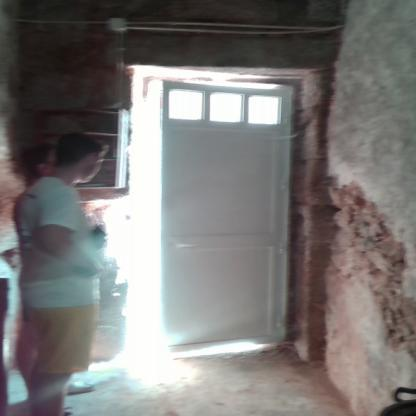door: (160, 83, 283, 337)
hinged: (282, 108, 288, 125), (275, 314, 282, 328), (281, 176, 287, 190), (280, 241, 284, 255)
lever: (172, 240, 201, 252)
